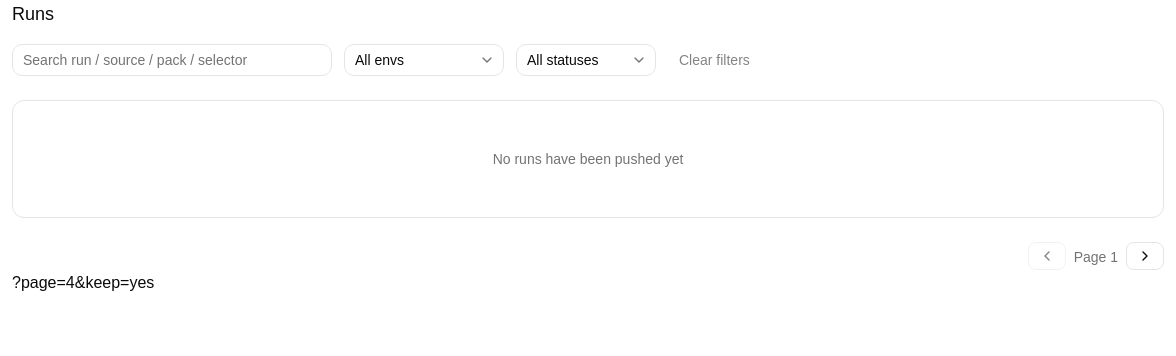
Test: resets runs searches to page one without requests for the previous page
This screenshot has width=1176, height=356.
Check: the text "No runs have been pushed yet" is shown, box x1=493 y1=149 x2=683 y2=169
Click the 2nd button named "Next": {"x": 1145, "y": 256} x1=1126 y1=242 x2=1164 y2=270
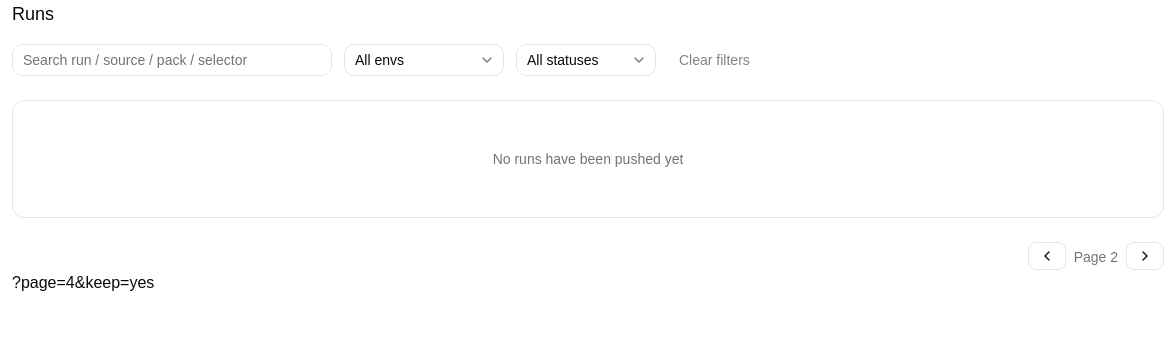
Check: the text with test id "location" reads "?page=4&keep=yes", box x1=12 y1=274 x2=154 y2=291
In the field labelled "Search run / source / pack / selector": {"x": 172, "y": 60} x1=12 y1=44 x2=332 y2=76, type "x"
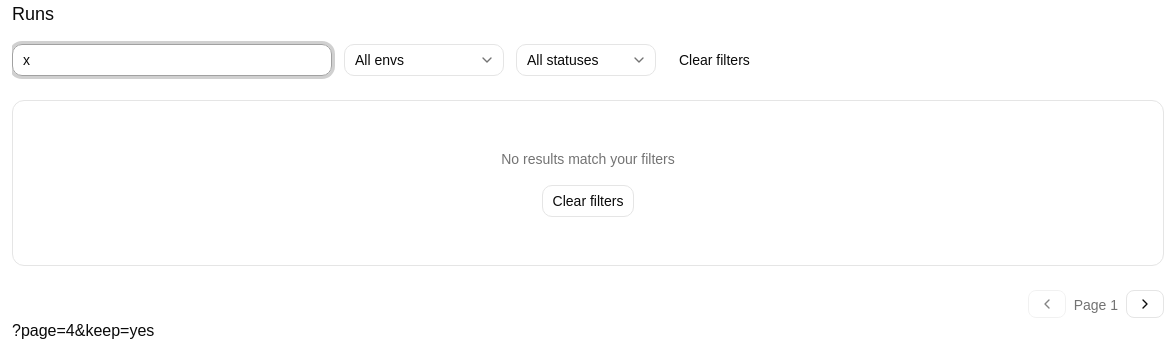
Check: the text with test id "location" reads "?page=4&keep=yes", box x1=12 y1=322 x2=154 y2=339
Check: the text "No results match your filters" is shown, box x1=501 y1=149 x2=675 y2=169
Click the 1st button "Clear filters": {"x": 714, "y": 60} x1=668 y1=44 x2=761 y2=76
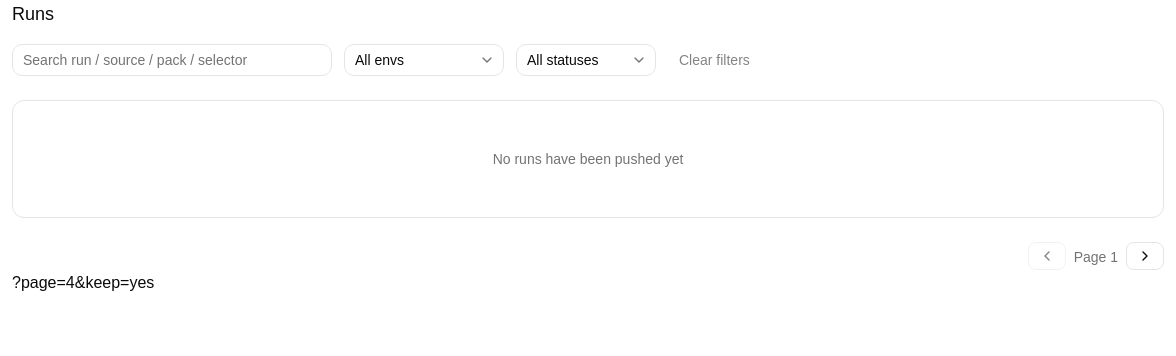
Check: the text "No runs have been pushed yet" is shown, box x1=493 y1=149 x2=683 y2=169
Check: the field is empty, box x1=12 y1=44 x2=332 y2=76
